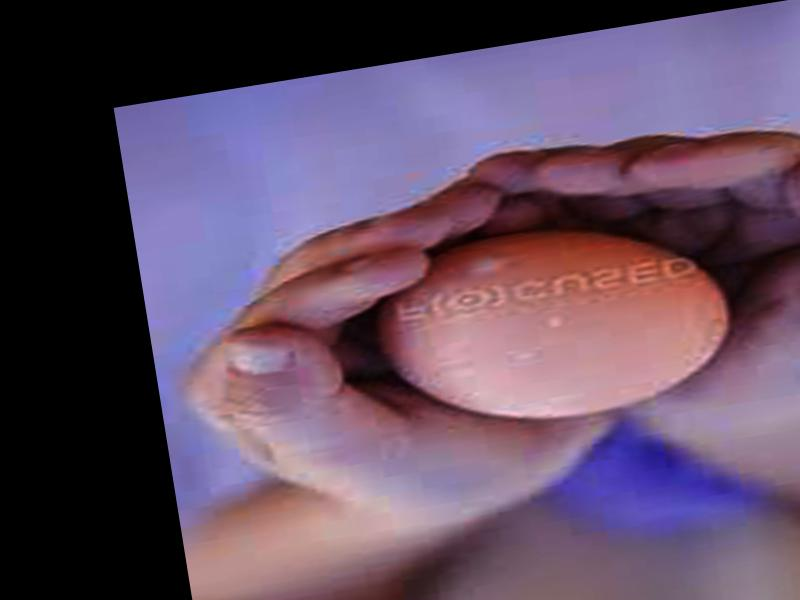Eggs: (368, 200, 748, 446)
